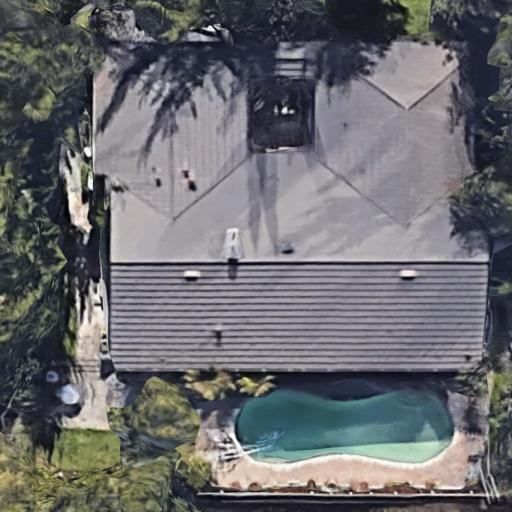Slope-Roof: (90, 41, 489, 371)
